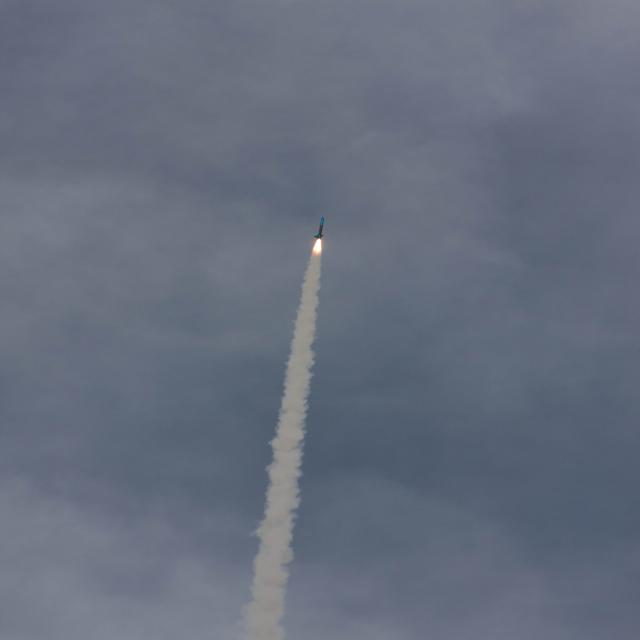Rocket: (313, 217, 325, 240)
